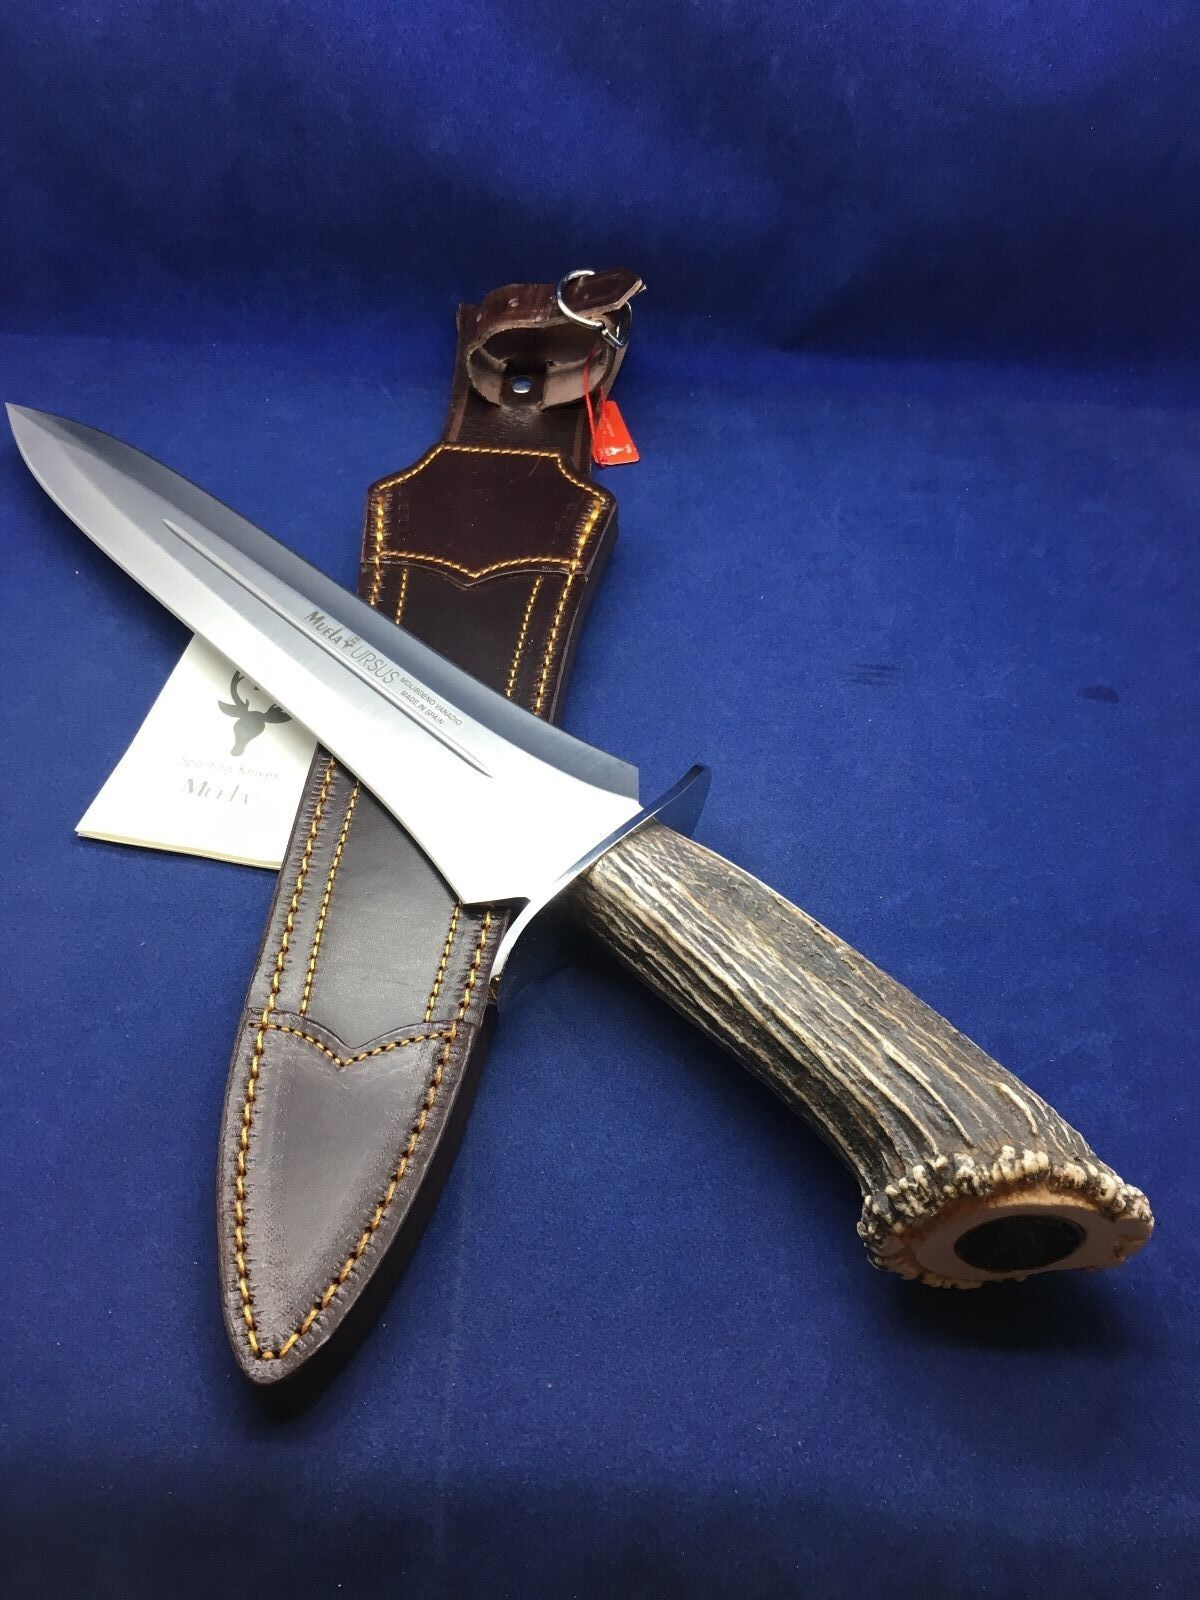knief: (15, 389, 1161, 1254)
